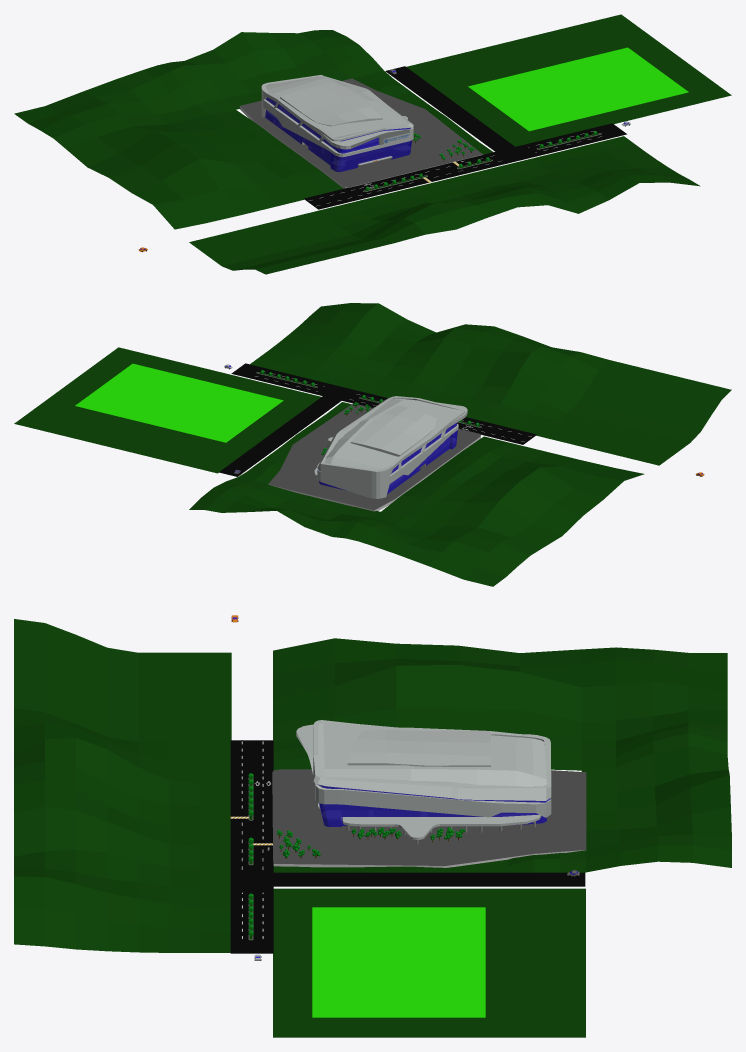
File: gym1_2_4.gltf
The picture shows the model from 3 angles, top to bottom: view 1: azimuth 30°, elevation 25°; view 2: azimuth 150°, elevation 25°; view 3: azimuth 270°, elevation 25°; orthographic projection. The views are drawn at different scales.
Parts seen in each view (by area): view 1: mountain, load, base, roof_cover, roof, 1f_glass, 2f_glass; view 2: mountain, roof_cover, base, load, roof, 1f_glass; view 3: mountain, base, load, roof_cover, roof, 2f_floor, 1f_glass, tree.
Part boxes in pixels (<box>): mountain: <box>14,14,731,274</box>; load: <box>304,66,626,209</box>; base: <box>239,78,482,188</box>; roof_cover: <box>266,76,405,138</box>; roof: <box>261,75,413,157</box>; 1f_glass: <box>265,110,411,171</box>; 2f_glass: <box>265,97,410,153</box>; mountain: <box>14,303,731,586</box>; roof_cover: <box>324,398,461,469</box>; base: <box>268,403,480,511</box>; load: <box>219,363,536,476</box>; roof: <box>317,396,467,498</box>; 1f_glass: <box>319,430,457,494</box>; mountain: <box>14,619,731,1037</box>; base: <box>272,769,586,867</box>; load: <box>230,740,585,953</box>; roof_cover: <box>318,722,546,786</box>; roof: <box>296,720,551,817</box>; 2f_floor: <box>341,814,541,839</box>; 1f_glass: <box>319,803,546,826</box>; tree: <box>276,827,465,858</box>.
Bounding box in the file's own units: 416 × 26.1 × 302.
Materials: 26 (8 with a texture image).
